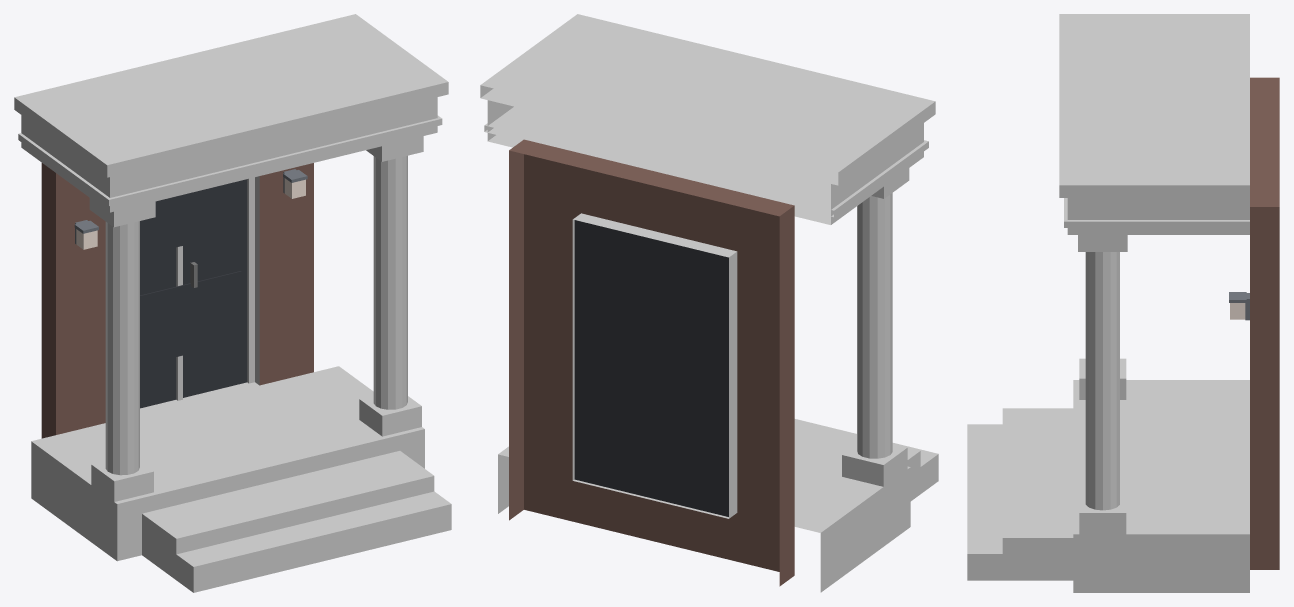
File: entrance_close.fbx
3 renders of one model, left to right at view 1: azimuth 30°, elevation 25°; view 2: azimuth 150°, elevation 25°; view 3: azimuth 270°, elevation 25°, orthographic. The views are drawn at different scales.
Parts seen in each view (by area): view 1: a2000s3/600/entrance_close; view 2: a2000s3/600/entrance_close; view 3: a2000s3/600/entrance_close.
Part boxes in pixels (x1=…): a2000s3/600/entrance_close: x1=14, y1=14, x2=451, y2=592; a2000s3/600/entrance_close: x1=480, y1=14, x2=938, y2=592; a2000s3/600/entrance_close: x1=967, y1=14, x2=1279, y2=592.
Bounding box in the file's own units: 3.44 × 3.9 × 2.65.
